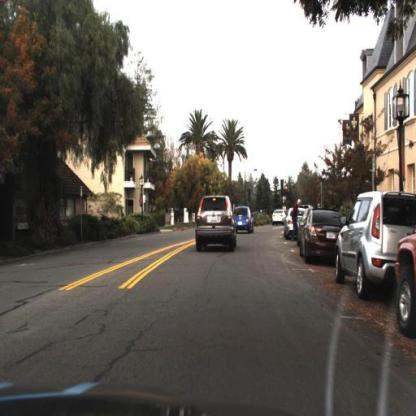car: (336, 190, 416, 297), (296, 207, 342, 270), (300, 209, 348, 264), (195, 196, 239, 250), (283, 206, 312, 244), (233, 205, 254, 235), (272, 209, 288, 225)
pedestrian: (290, 198, 304, 241)
